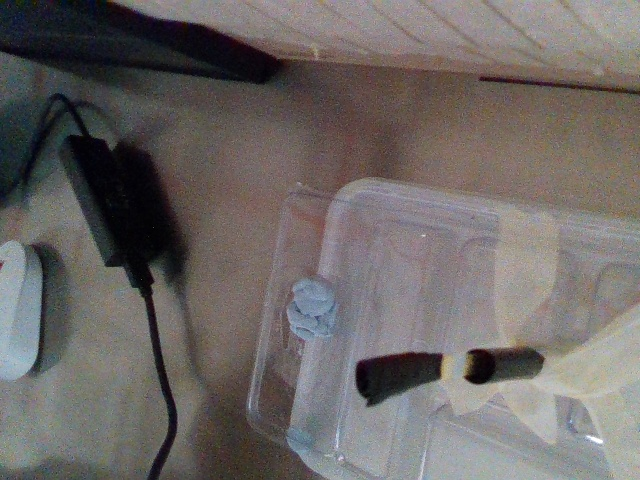test_strip: (353, 349, 473, 407)
